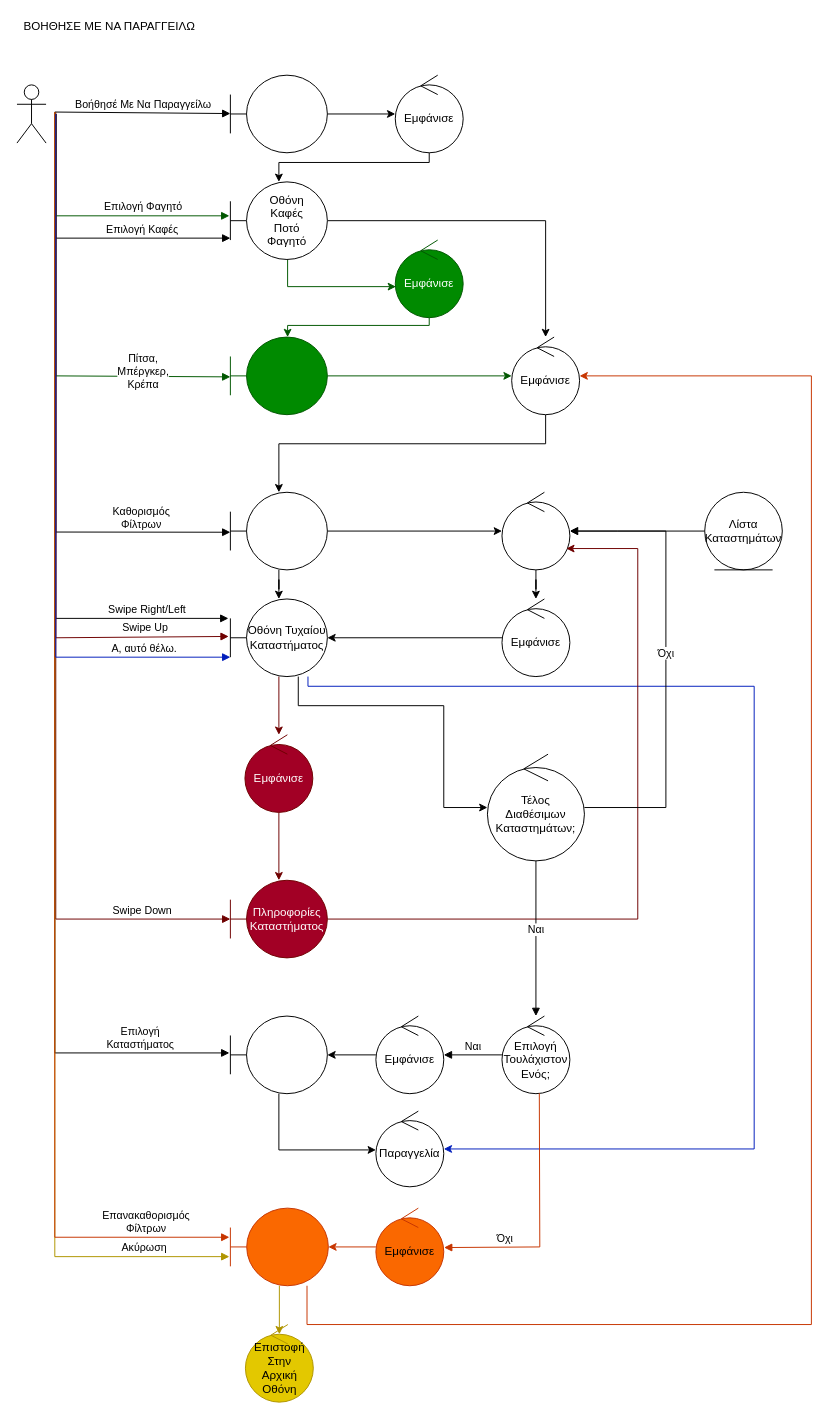
The diagram is 836 pixels wide and 1419 high, and some of its shapes have lost their labels. The shapes that lost their labels are listed below. From the top down, each one's centre as x and y in pixels, then its label:
At (31,113): "Actor".
At (278,113): "Οθόνη Παραγγέλνω Σόλο".
At (278,375): "Επιλογές Φαγτού".
At (278,530): "Οθόνη Φίλτρων".
At (535,530): "Επιλογή Τυχαίου Καταστήματος".
At (278,1054): "Οθόνη Επιλογής".
At (278,1246): "Οθόνη Μήπως Είσαι Λέων;".
